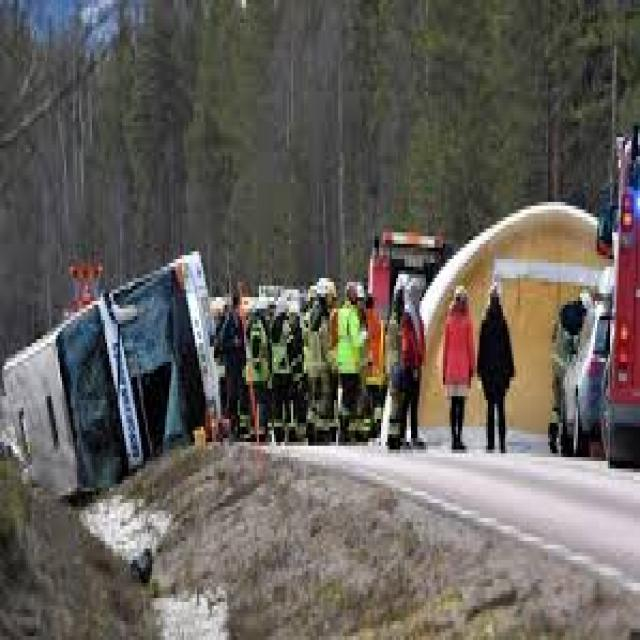accident: (0, 252, 241, 542)
